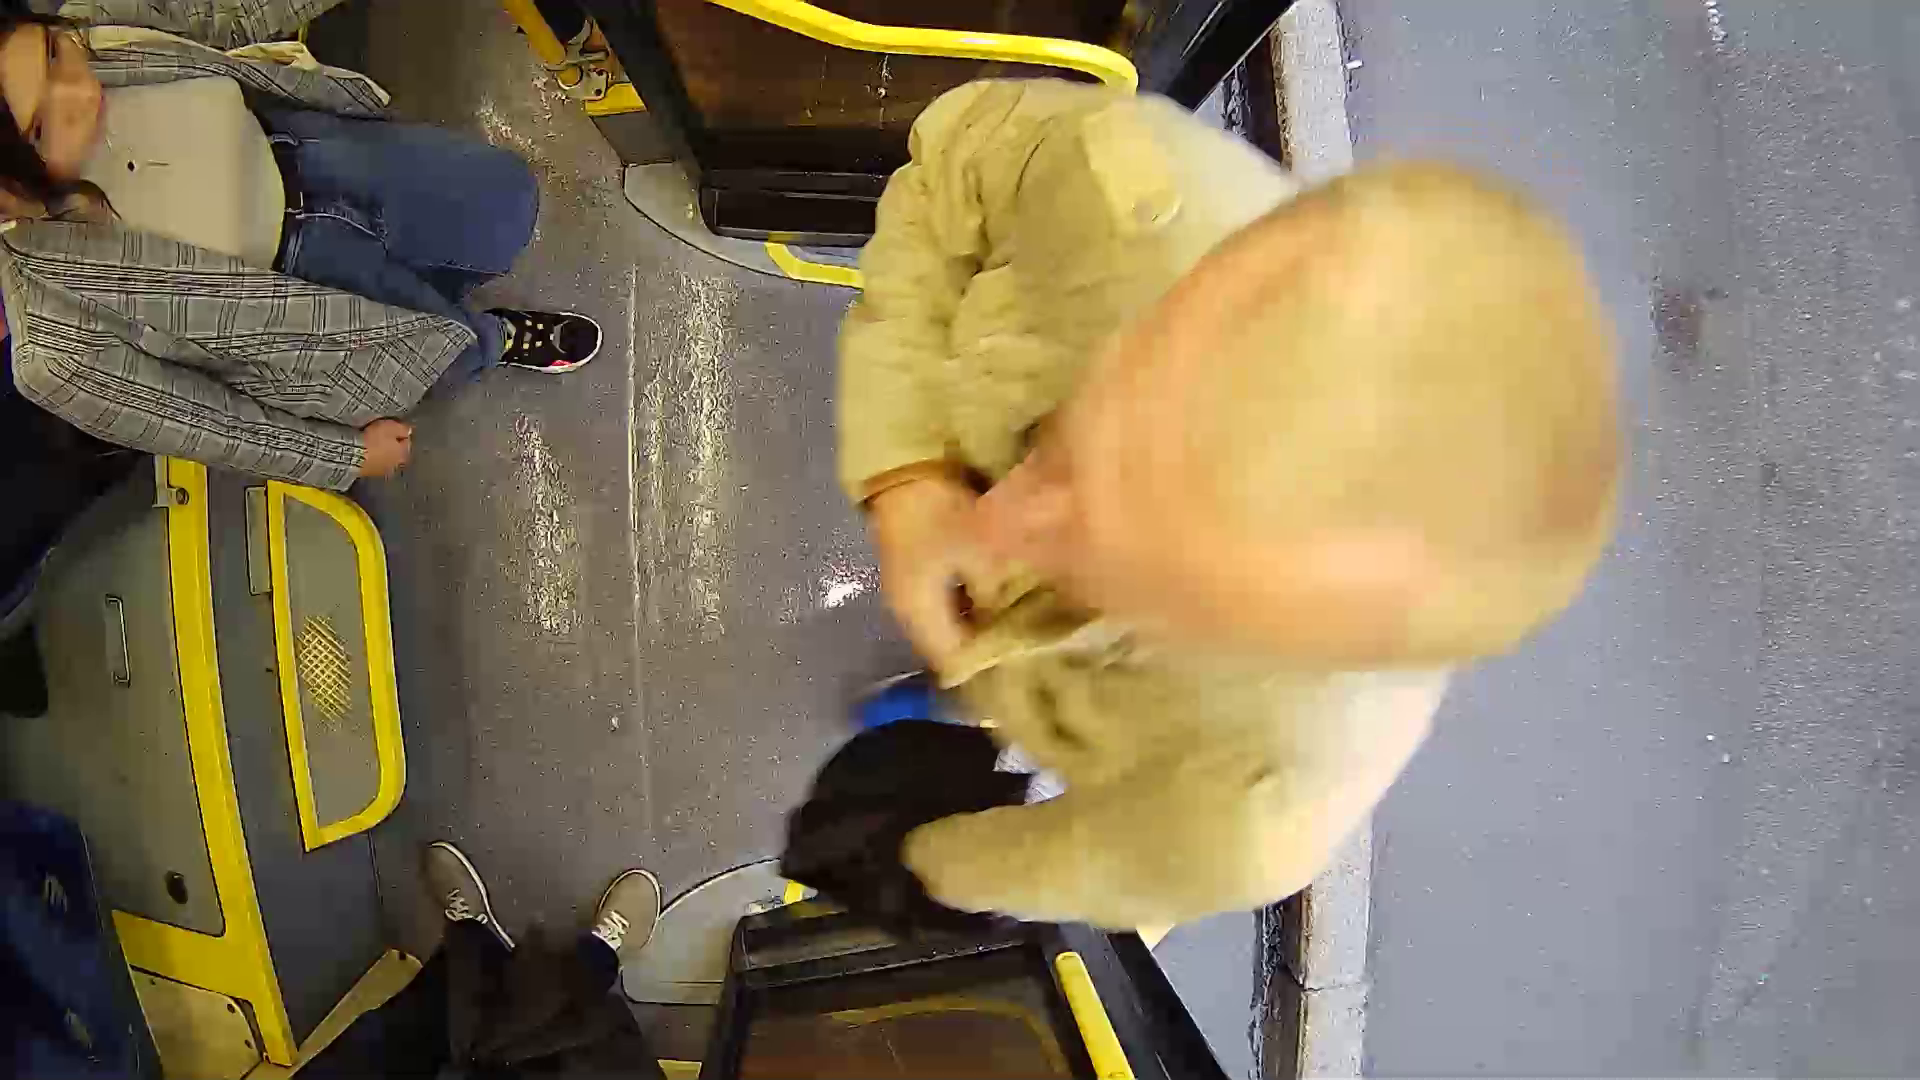person: (759, 70, 1747, 960)
